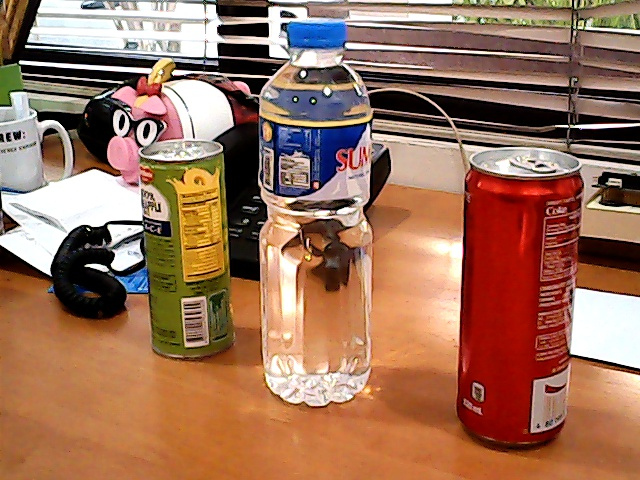Cola: (440, 114, 596, 461)
Pine Juice: (114, 122, 247, 369)
Summit Water: (238, 8, 390, 416)
